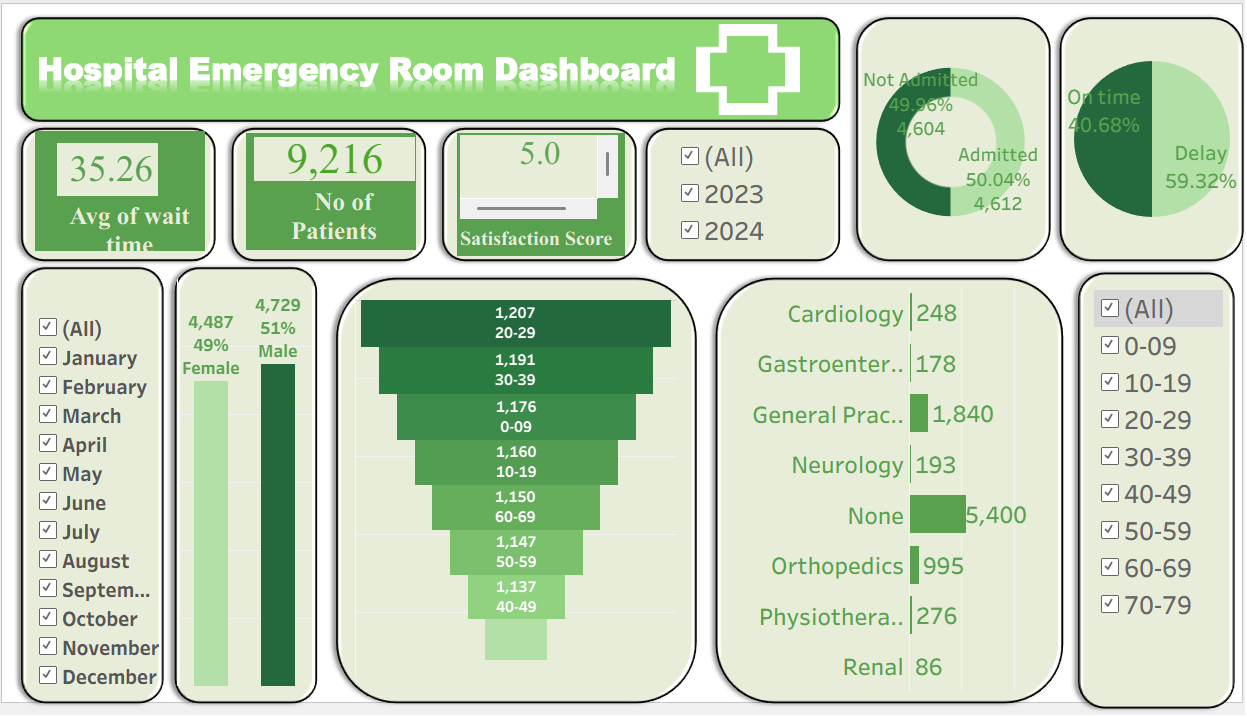

What the dashboard file says about the page in this screenshot:
{"tool":"tableau","page":{"name":"final Dashboard","canvas":[4700,1600],"ordinal":0},"visuals":[{"type":"image","param":"C:/Users/Bhagyashree/OneDrive/Desktop/new tableu.png","box":[24,30,1634,802]},{"type":"worksheet","title":"pie chart on time and delay","mark":"Pie","box":[1091,73,172,192]},{"type":"worksheet","title":"donnut chart admitted and nonadmitted","mark":"Automatic","rows":["Calculation_1672805828868120577","Calculation_1672805828868153347"],"box":[887,79,177,186]},{"type":"dashboard-object","box":[54,161,176,121]},{"type":"dashboard-object","box":[271,163,170,117]},{"type":"dashboard-object","box":[482,163,168,123]},{"type":"worksheet","title":"satisfaction score","mark":"Text","box":[485.4,165,158.2,115]},{"type":"filter","title":"Patient refereall by count of patient ","param":"[federated.1iafqmr1ifpo1212lmeuf0a09k0y].[yr:Date:ok]","box":[699,165,129,114]},{"type":"worksheet","title":"total patient","mark":"Text","box":[279,167,161,108]},{"type":"worksheet","title":"avg wai time ","mark":"Text","box":[56,170,169,105]},{"type":"dashboard-object","box":[62,239,164,39]},{"type":"worksheet","title":"male female","mark":"Automatic","rows":["Calculation_1647191606363725827"],"cols":["Patient Gender"],"box":[202,309,135,407]},{"type":"worksheet","title":"Patient refereall by count of patient ","mark":"Automatic","rows":["Department Referral"],"cols":["Patient Id"],"box":[774,317,279,404]},{"type":"filter","title":"Patient refereall by count of patient ","param":"[federated.1iafqmr1ifpo1212lmeuf0a09k0y].[none:Age Group:nk]","box":[1119,317,129,412]},{"type":"worksheet","title":"funnel age group wise count","mark":"Bar","rows":["Patient Id"],"box":[380,330,322,378]},{"type":"filter","title":"donnut chart admitted and nonadmitted","param":"[federated.1iafqmr1ifpo1212lmeuf0a09k0y].[mn:Date:ok]","box":[47.9,331,148.7,465]}]}

Visuals, with their boxes on the page's 4700x1600 design canvas (x1, y1, x2, y2). These are canvas units, not pixel positions in the 1247x717 screenshot, which may show the page scaled, cropped or inside an application window:
image: [24, 30, 1658, 832]
"pie chart on time and delay" worksheet (Pie marks): [1091, 73, 1263, 265]
"donnut chart admitted and nonadmitted" worksheet: [887, 79, 1064, 265]
dashboard-object: [54, 161, 230, 282]
dashboard-object: [271, 163, 441, 280]
dashboard-object: [482, 163, 650, 286]
"satisfaction score" worksheet (Text marks): [485, 165, 644, 280]
"Patient refereall by count of patient " filter: [699, 165, 828, 279]
"total patient" worksheet (Text marks): [279, 167, 440, 275]
"avg wai time " worksheet (Text marks): [56, 170, 225, 275]
dashboard-object: [62, 239, 226, 278]
"male female" worksheet: [202, 309, 337, 716]
"Patient refereall by count of patient " worksheet: [774, 317, 1053, 721]
"Patient refereall by count of patient " filter: [1119, 317, 1248, 729]
"funnel age group wise count" worksheet (Bar marks): [380, 330, 702, 708]
"donnut chart admitted and nonadmitted" filter: [48, 331, 197, 796]
